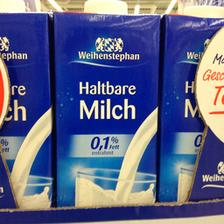Milch: (51, 0, 160, 204), (160, 3, 220, 203), (0, 2, 52, 209)
